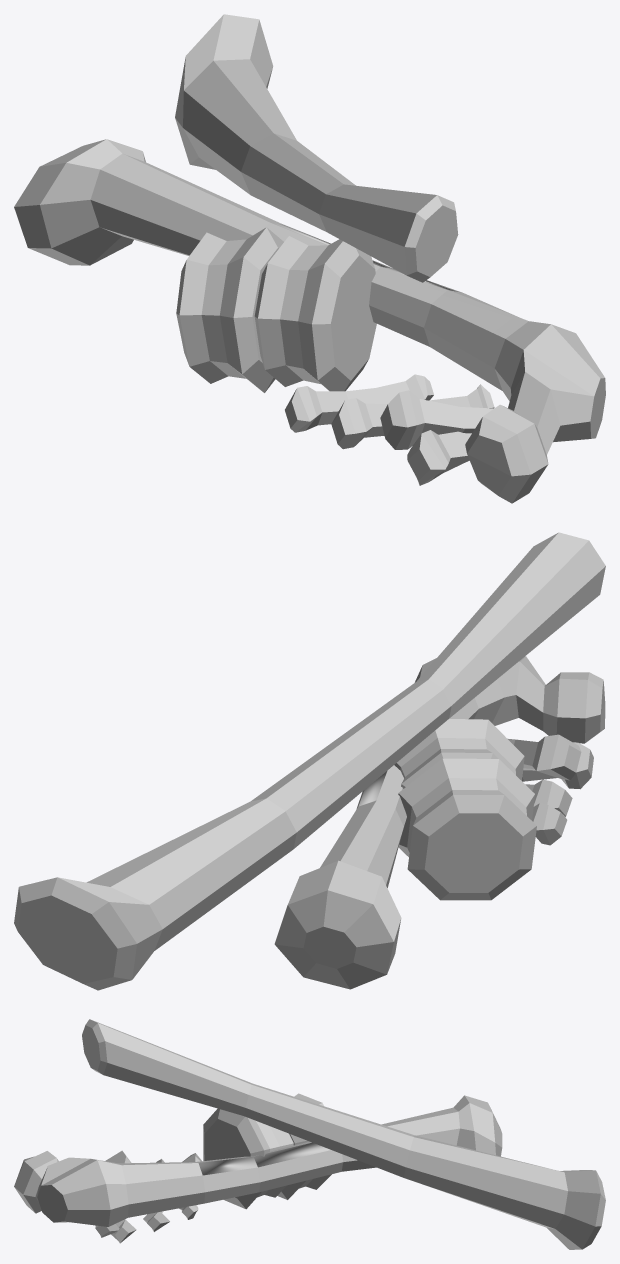
The model's file is Bones_03.fbx.
3 views of the same model, one above another, from view 1: azimuth 30°, elevation 25°; view 2: azimuth 150°, elevation 25°; view 3: azimuth 270°, elevation 25° (orthographic). The views are drawn at different scales.
Visible parts, largest first — view 1: Bones_03; view 2: Bones_03; view 3: Bones_03.
Part boxes in pixels (box(x1,y1,x2,y2)): Bones_03: box(14, 14, 605, 503); Bones_03: box(14, 532, 605, 990); Bones_03: box(14, 1019, 605, 1249).
Bounding box in the file's own units: 21.78 × 17.37 × 50.68.
